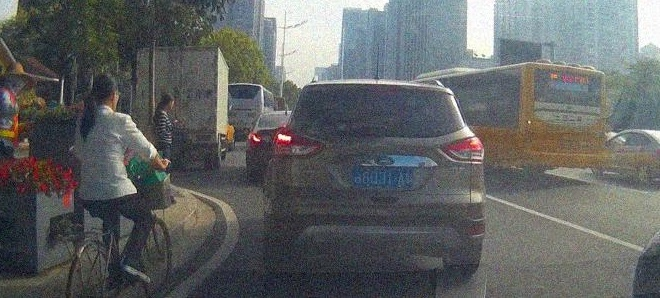L_light: (270, 127, 326, 158), (521, 120, 533, 140)
R_light: (437, 135, 485, 164), (595, 124, 605, 141)
T_light: (373, 85, 393, 93), (560, 99, 578, 105)
day-left: (268, 77, 487, 277)
day-no: (520, 59, 606, 182)
